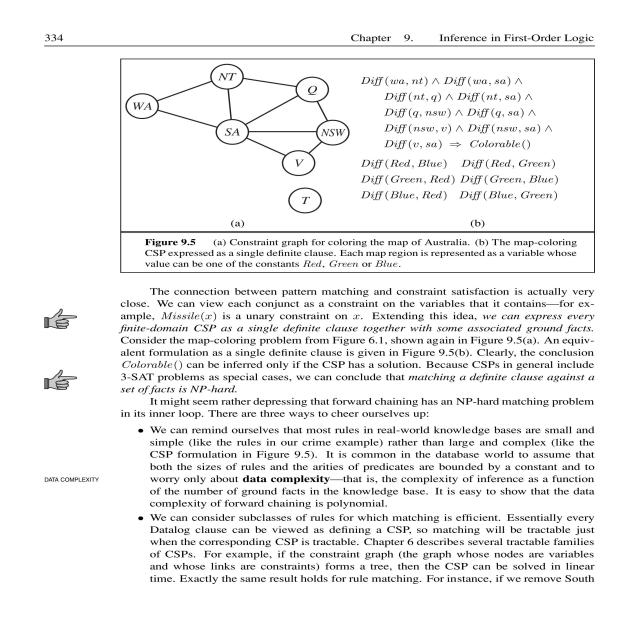diagram: (108, 52, 623, 279)
